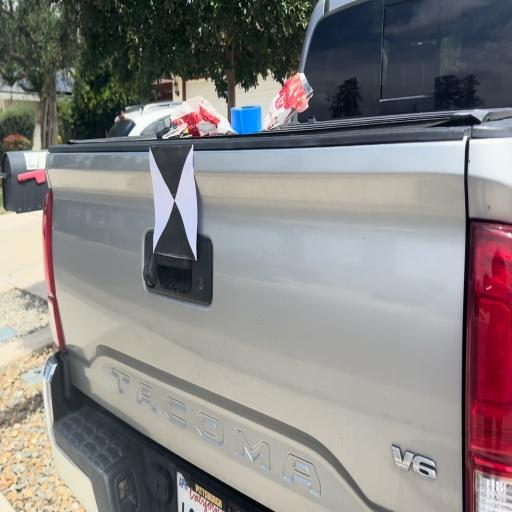target: (150, 147, 197, 257)
